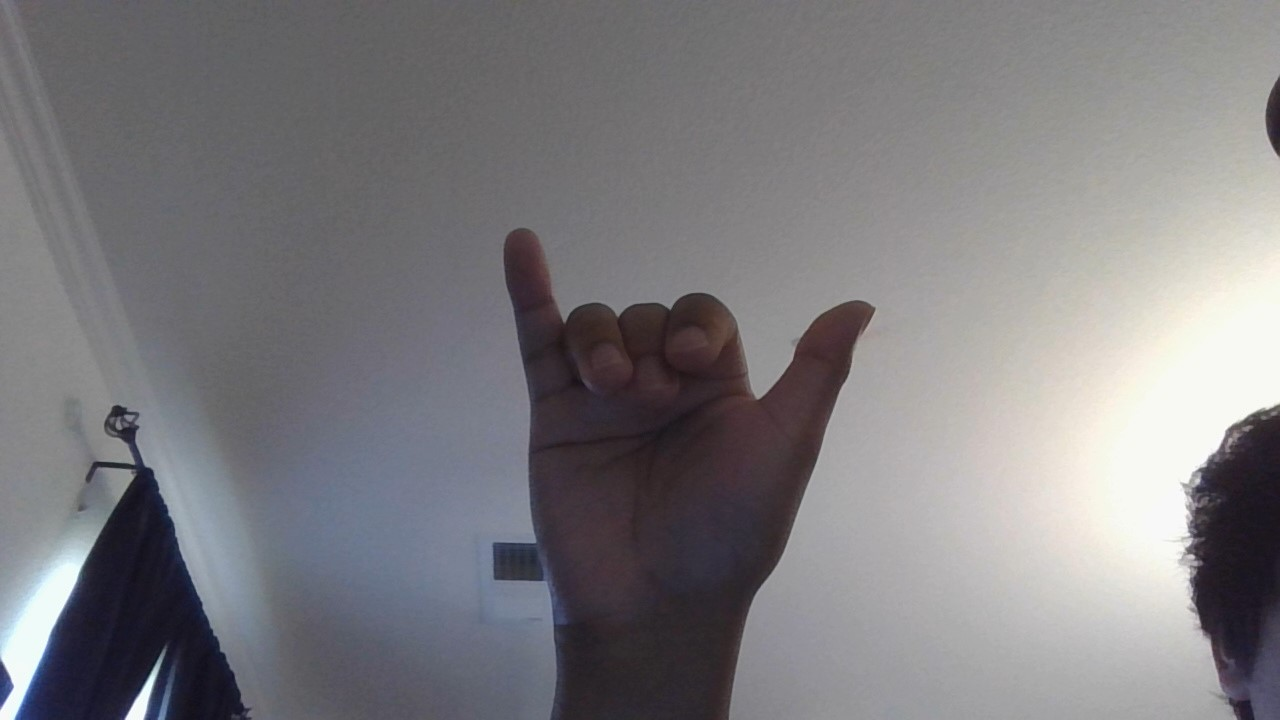y: (472, 199, 895, 633)
